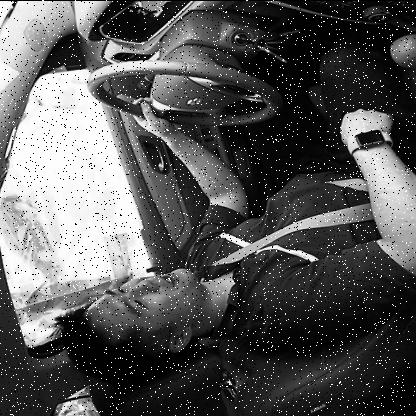seatbelt: (43, 198, 344, 389)
